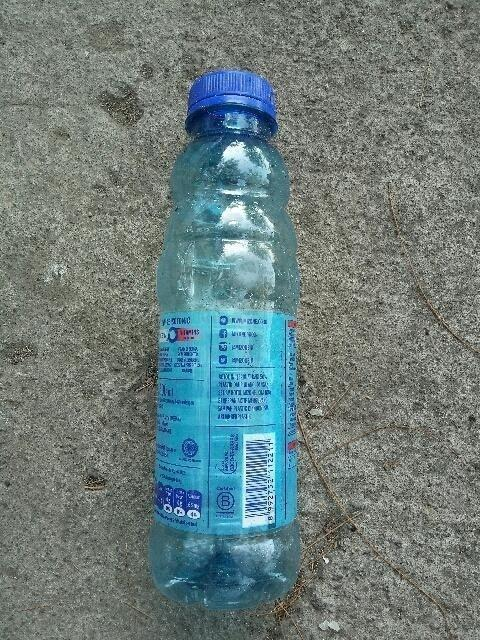bottle-plastic: (150, 72, 303, 611)
